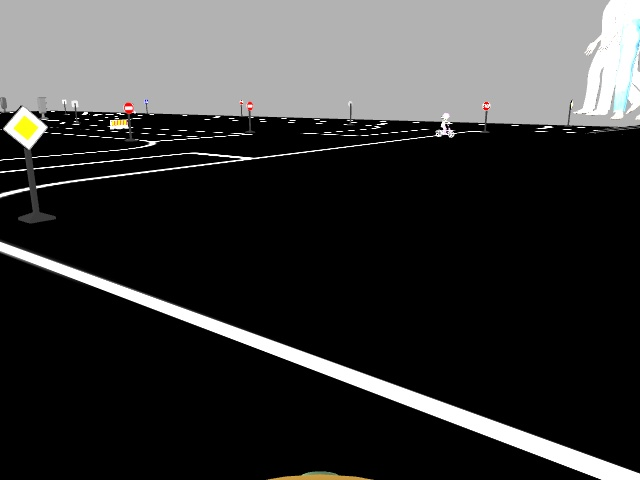ClosedRoadStand: (107, 117, 129, 131)
NoEntry: (121, 100, 135, 114), (243, 100, 254, 111)
Priority: (0, 105, 48, 149)
